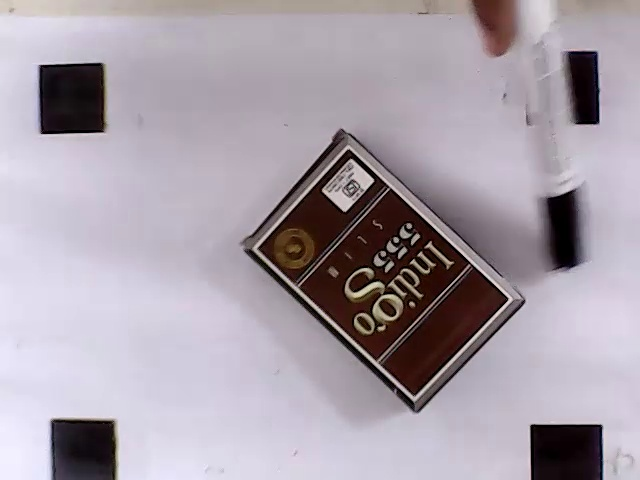BEX: (256, 147, 510, 400)
